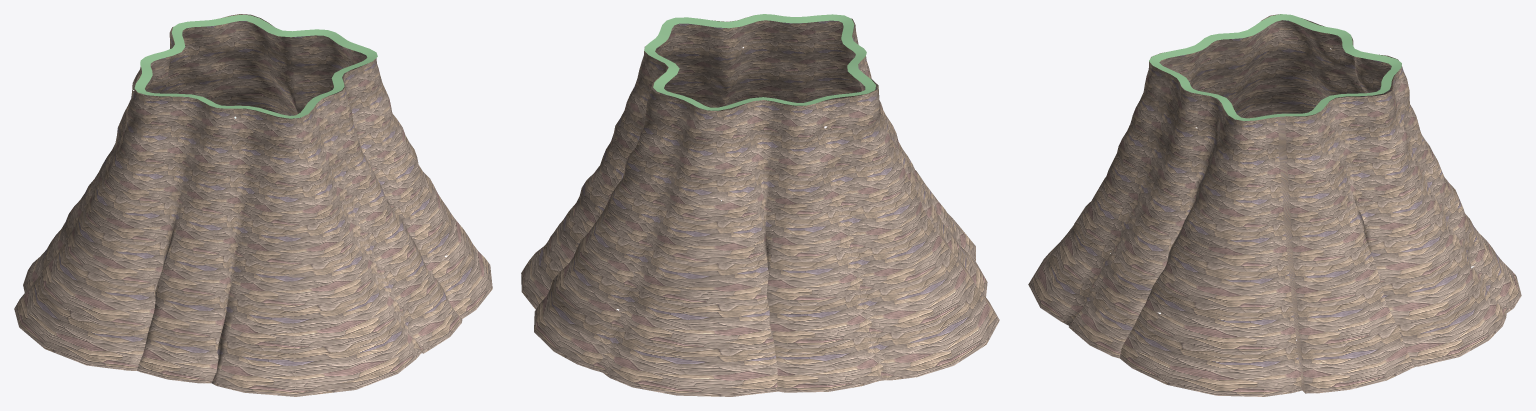
File: CliffWall_stack_05.glb
The picture shows the model from 3 angles, left to right: view 1: azimuth 30°, elevation 25°; view 2: azimuth 150°, elevation 25°; view 3: azimuth 270°, elevation 25°; orthographic projection. The views are drawn at different scales.
Parts seen in each view (by area): view 1: CliffWall_stack_05-rock0, CliffWall_stack_05-lip0; view 2: CliffWall_stack_05-rock0, CliffWall_stack_05-lip0; view 3: CliffWall_stack_05-rock0, CliffWall_stack_05-lip0.
Boxes of the visible parts, box(x1,y1,x2,y2) form: CliffWall_stack_05-rock0: box(14, 14, 492, 396); CliffWall_stack_05-lip0: box(134, 14, 377, 118); CliffWall_stack_05-rock0: box(521, 17, 999, 396); CliffWall_stack_05-lip0: box(644, 14, 875, 110); CliffWall_stack_05-rock0: box(1028, 14, 1521, 396); CliffWall_stack_05-lip0: box(1149, 14, 1401, 120).
Bounding box in the file's own units: 405 × 208 × 411.
Materials: 4 (1 with a texture image).
